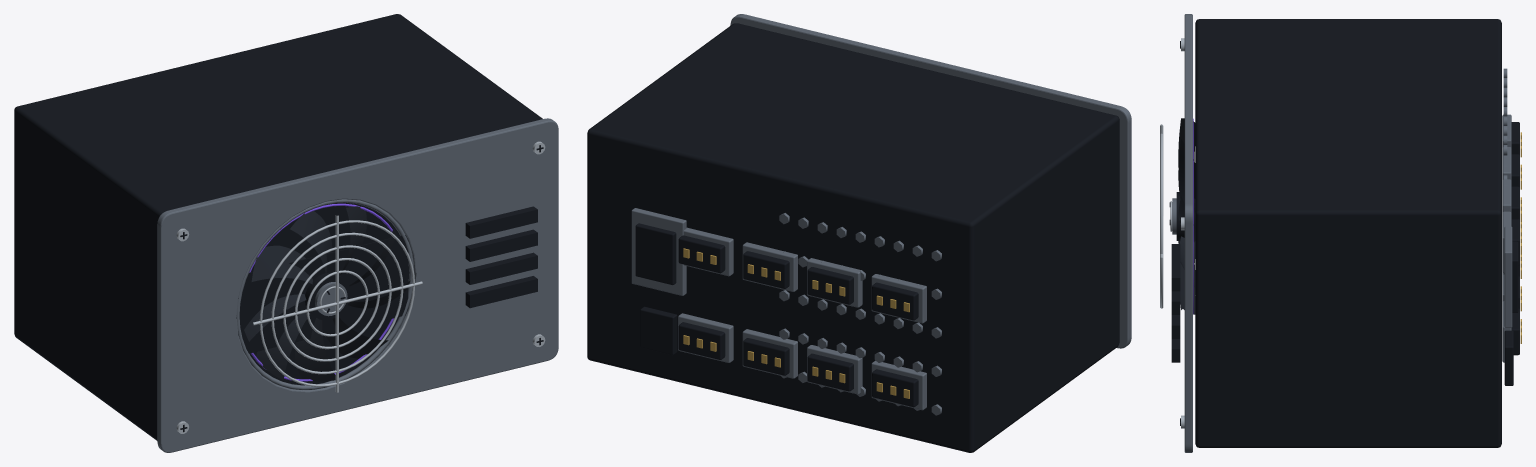
File: nexrig-psu.glb
The picture shows the model from 3 angles, left to right: view 1: azimuth 30°, elevation 25°; view 2: azimuth 150°, elevation 25°; view 3: azimuth 270°, elevation 25°; orthographic projection. The views are drawn at different scales.
Parts seen in each view (by area): view 1: Original generic modular PSU, Fan rotor; view 2: Original generic modular PSU; view 3: Original generic modular PSU, Fan rotor.
Boxes of the visible parts, <box> form: Original generic modular PSU: <box>14,14,558,452</box>; Fan rotor: <box>244,206,410,381</box>; Original generic modular PSU: <box>587,14,1131,452</box>; Original generic modular PSU: <box>1160,14,1521,452</box>; Fan rotor: <box>1169,118,1195,314</box>.
Bounding box in the file's own units: 1.3 × 0.747 × 0.9917.
